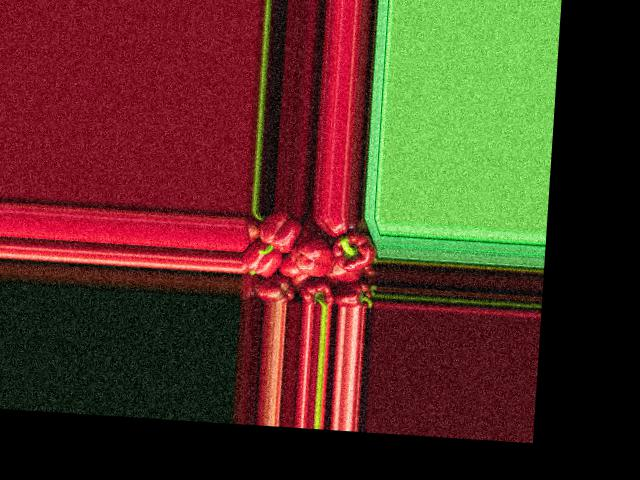bell_pepper: (336, 280, 374, 308)
